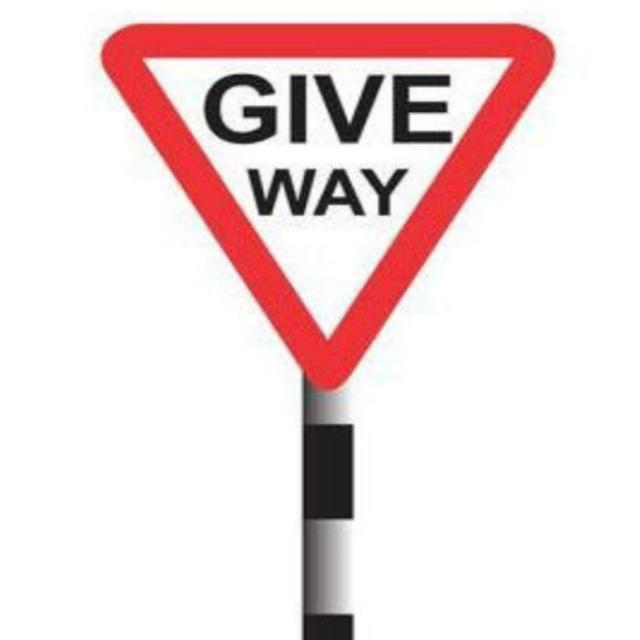give way: (100, 20, 570, 390)
